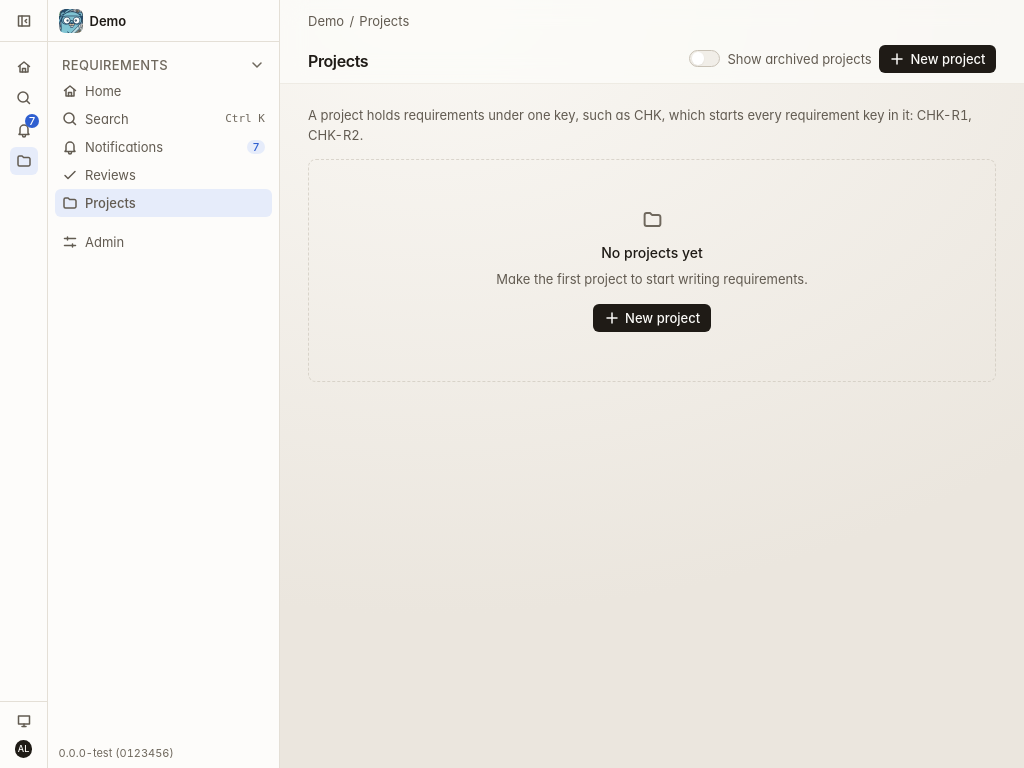
it: the notification bell › words every kind
Click the button named "Notifications, 7 unread".
click(24, 130)  # box [10,116,38,144]
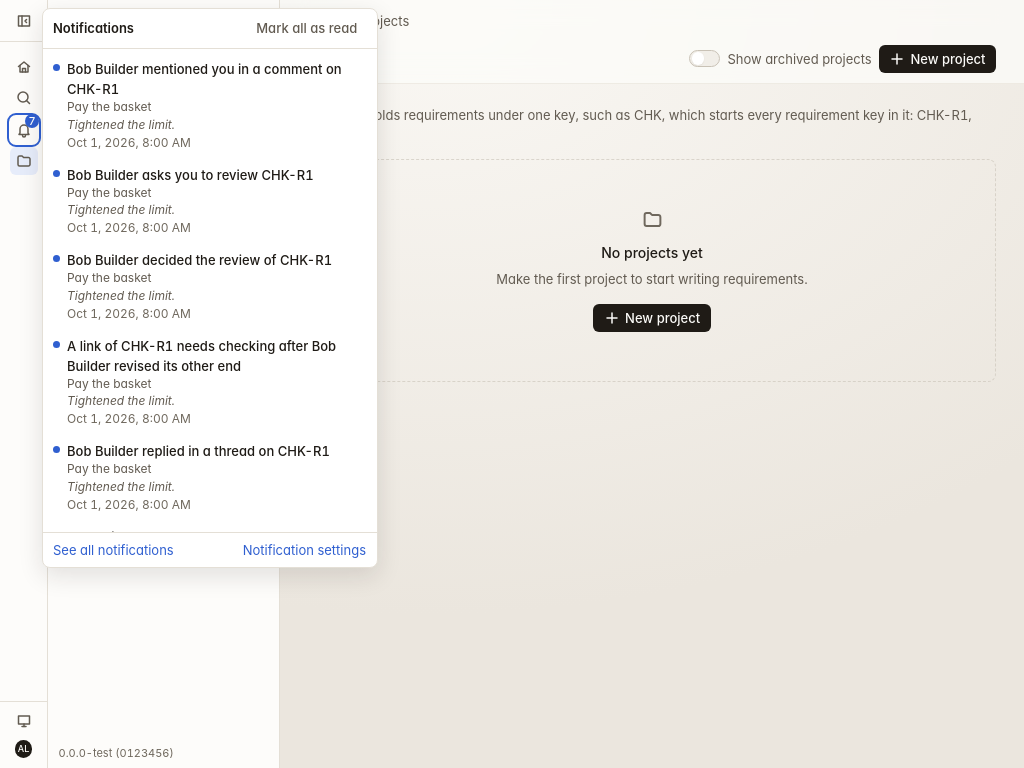
Check: the text "Bob Builder mentioned you in a comment on CHK-R1" is shown, box [67,59,366,99]
Check: the text "Bob Builder asks you to review CHK-R1" is shown, box [67,166,314,182]
Check: the text "Bob Builder decided the review of CHK-R1" is shown, box [67,250,366,270]
